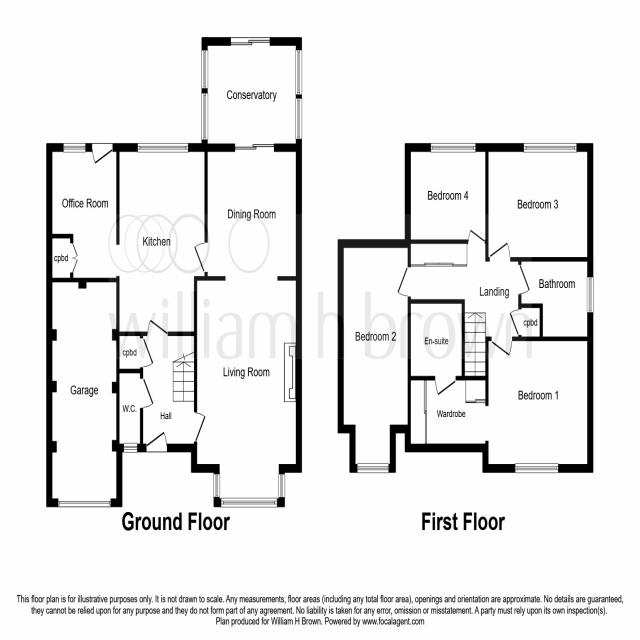DOOR: (145, 431, 168, 454), (139, 377, 155, 410), (193, 241, 208, 275), (91, 142, 113, 165), (434, 375, 457, 397), (139, 337, 154, 369), (396, 266, 411, 298), (489, 241, 511, 262), (491, 336, 513, 357), (193, 411, 207, 443), (518, 264, 531, 296), (146, 318, 169, 336), (508, 308, 522, 337), (467, 228, 485, 245)
ROOM: (191, 143, 303, 508), (404, 336, 594, 473), (116, 143, 208, 337), (337, 239, 411, 473), (485, 142, 594, 262), (46, 143, 121, 282), (404, 142, 489, 248)
SLIDING DOOR: (230, 37, 270, 46), (234, 143, 274, 152)
WINDOW: (220, 496, 278, 508), (523, 142, 578, 153), (137, 142, 189, 153), (430, 142, 476, 153), (514, 463, 559, 474), (356, 462, 390, 474), (201, 92, 209, 141), (295, 49, 303, 96), (295, 97, 303, 141), (201, 49, 209, 90), (586, 277, 594, 314), (63, 142, 86, 154), (277, 473, 285, 499), (213, 473, 221, 498), (123, 442, 139, 454)
